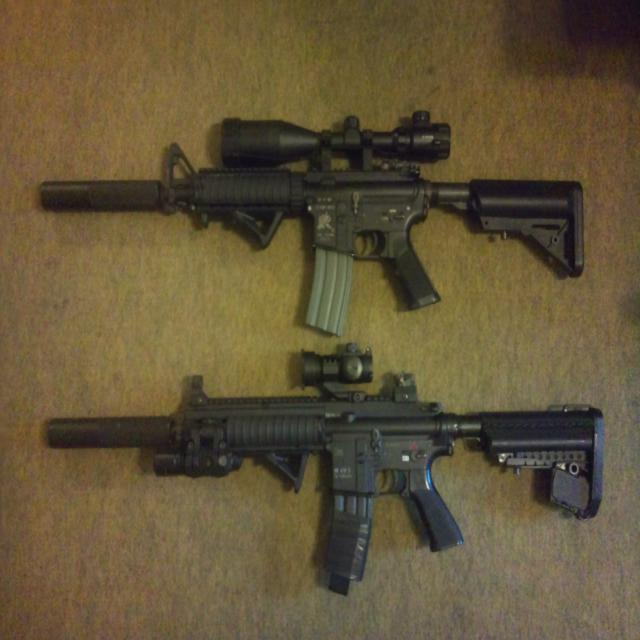firearm: (47, 343, 604, 587), (39, 108, 585, 333)
